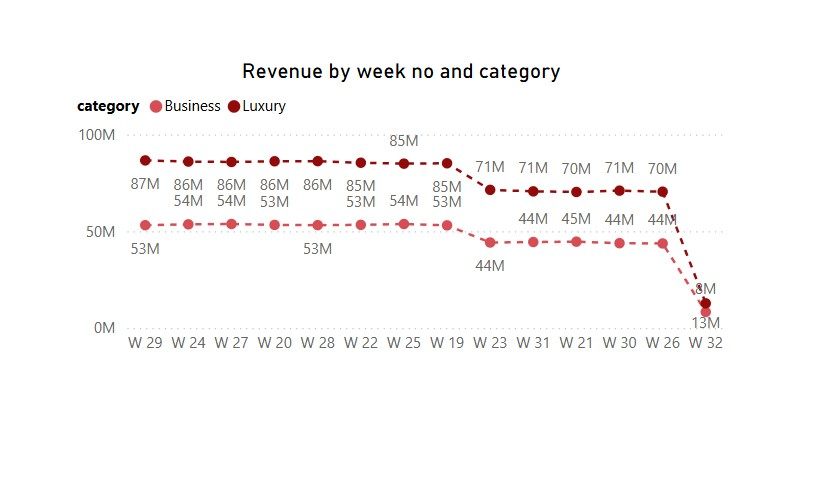

The page's visual inventory and layout, read from the dashboard file:
{"tool":"powerbi","page":{"name":"tooltip - revenue","canvas":[800,400],"ordinal":1},"visuals":[{"type":"lineChart","fields":{"Y":["key_measures.Revenue"],"Category":["dim_date.week no"],"Series":["dim_hotels.category"]},"box":[95,49,529,246],"z":0}]}

Visuals, with their boxes on the page's 800x400 design canvas (x1, y1, x2, y2). These are canvas units, not pixel positions in the 838x492 screenshot, which may show the page scaled, cropped or inside an application window:
lineChart - key_measures.Revenue x dim_date.week no: rect(95, 49, 624, 295)
